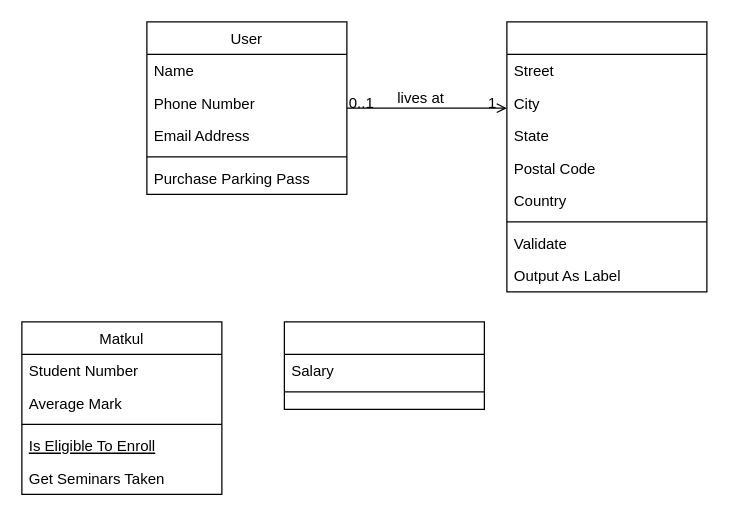
The diagram is 729 pixels wide and 520 high, and some of its shapes have lost their labels. The shapes that lost their labels are listed below. From the top down, each one's box as (x1, y1, x2, y2) in pixels, then its label:
(506, 21, 707, 292): Tugas
(283, 321, 484, 409): Professor
